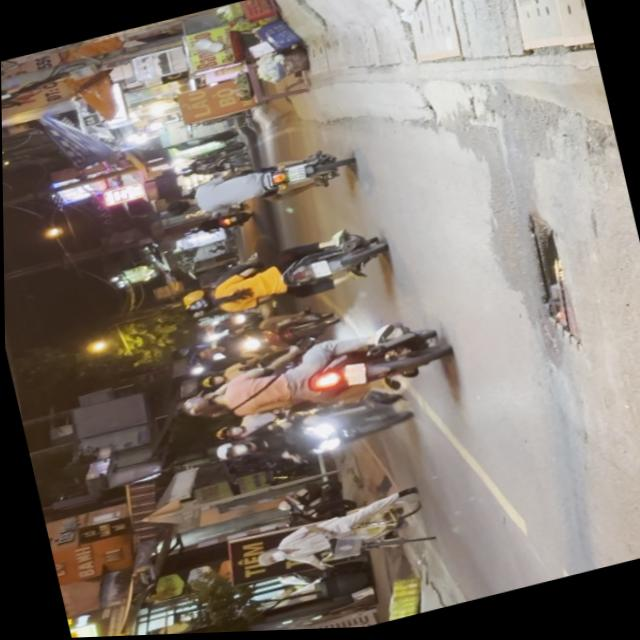helmet: (180, 394, 225, 426), (211, 441, 249, 466), (178, 288, 211, 309), (182, 297, 214, 317)
licenseplate: (170, 316, 451, 445), (170, 224, 389, 332), (205, 387, 417, 488), (154, 144, 354, 233)
motorcyclist: (160, 197, 195, 221)
nohelmet: (340, 365, 365, 391), (284, 166, 305, 184), (308, 263, 329, 281)
